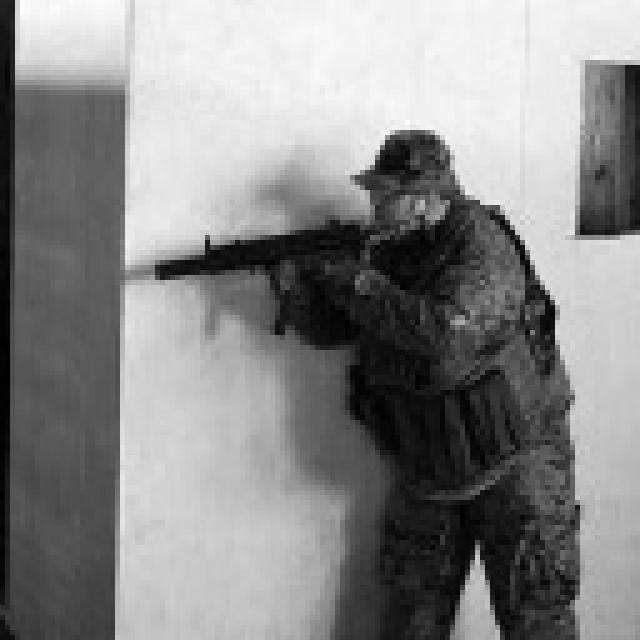Rifle: (141, 196, 444, 344)
